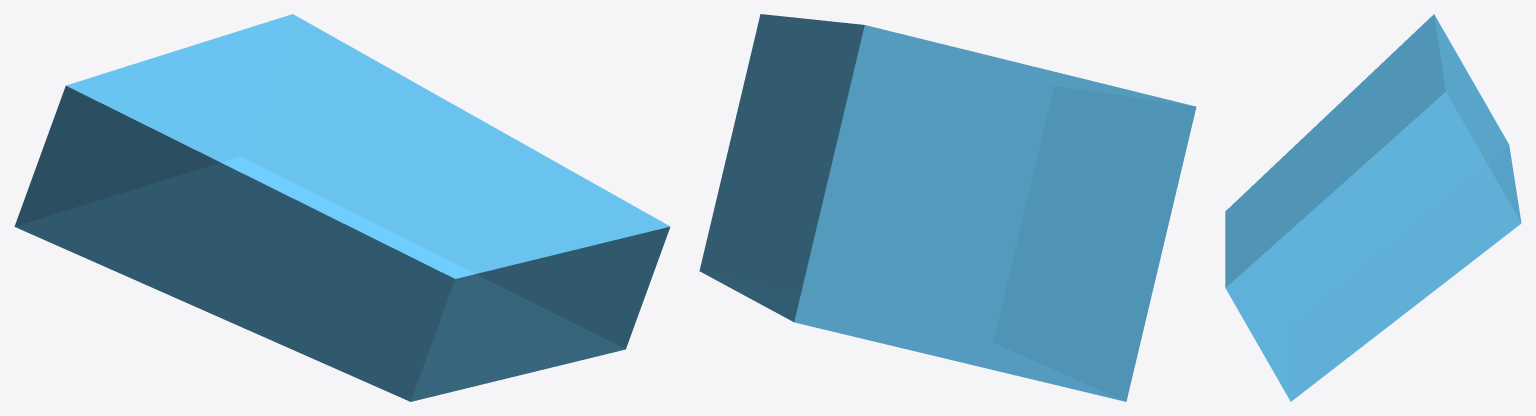
Rendered from Event_420107950_HBrechit_4.fbx.
3 renders of one model, left to right at view 1: azimuth 30°, elevation 25°; view 2: azimuth 150°, elevation 25°; view 3: azimuth 270°, elevation 25°, orthographic. The views are drawn at different scales.
Visible parts, largest first — view 1: Model; view 2: Model; view 3: Model.
Boxes of the visible parts, x1,y1,x2,y2 form: Model: (14,14,670,401); Model: (699,14,1196,401); Model: (1225,14,1521,401).
Bounding box in the file's own units: 1.11 × 0.7172 × 0.8397.
